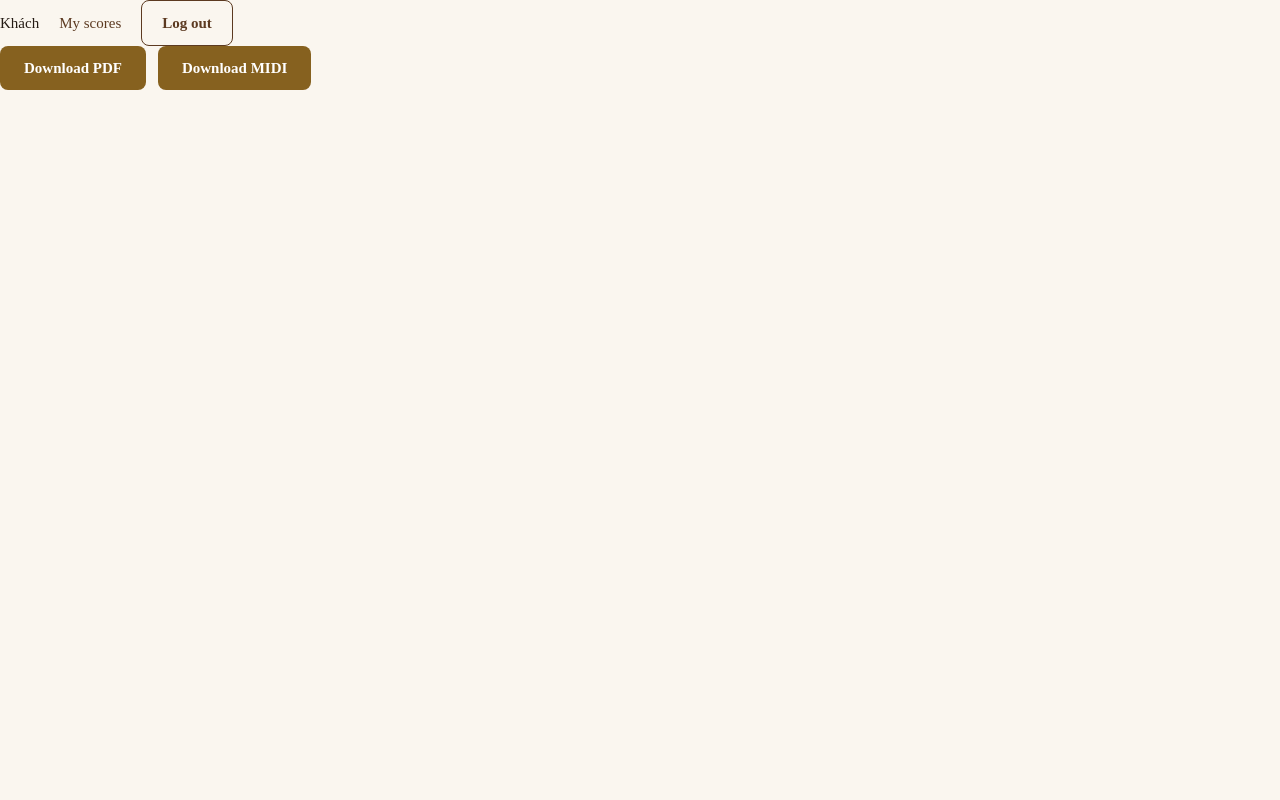
Test: Tài khoản khách (web) › tải trả 403 EMAIL_NOT_VERIFIED: mở modal xác minh email; lỗi khác hiện thông báo, không điều hướng
The width and height of the screenshot is (1280, 800).
Expected: the text "Khách" is shown, [0,11,39,35]
Click the button "Download PDF".
click(73, 68)  # box [0,46,146,90]
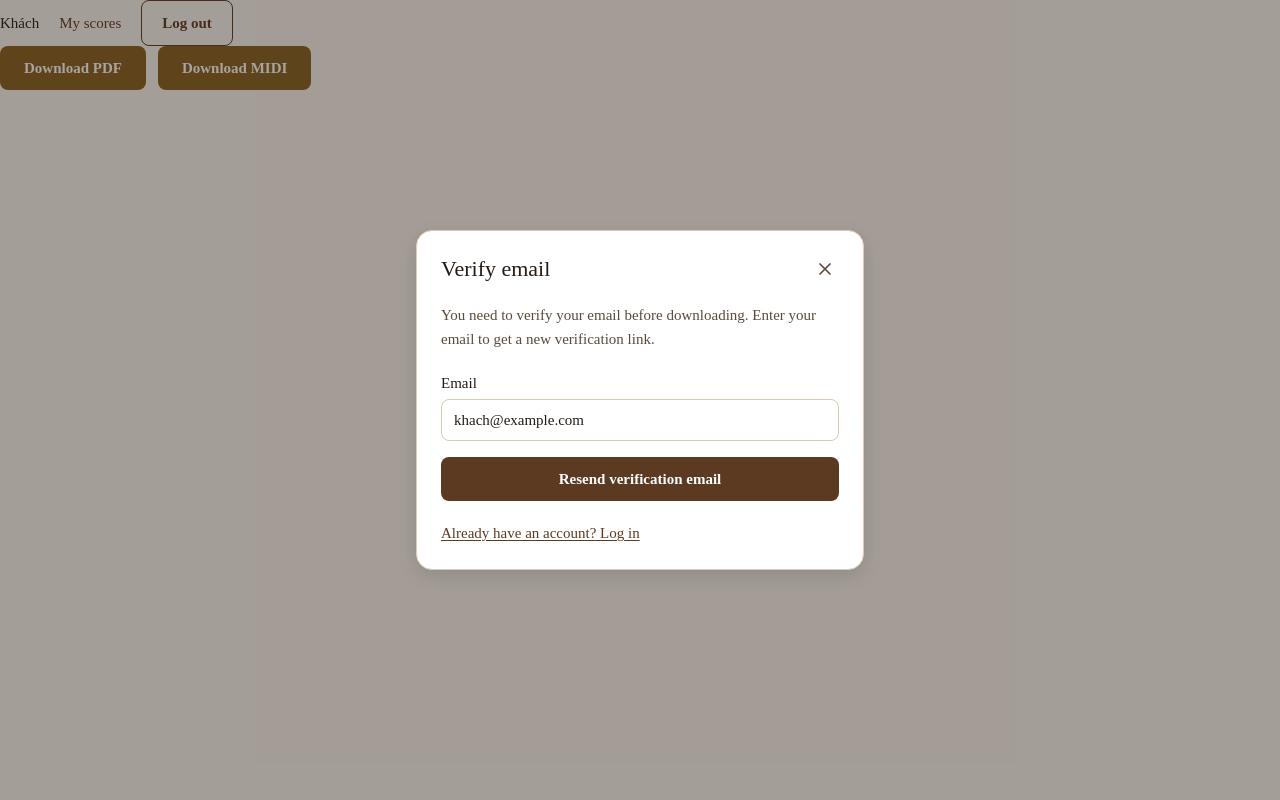
Now the heading "Verify email" is shown, box [441,255,550,283]
Click the button named "Close".
click(825, 269)  # box [803,247,847,291]
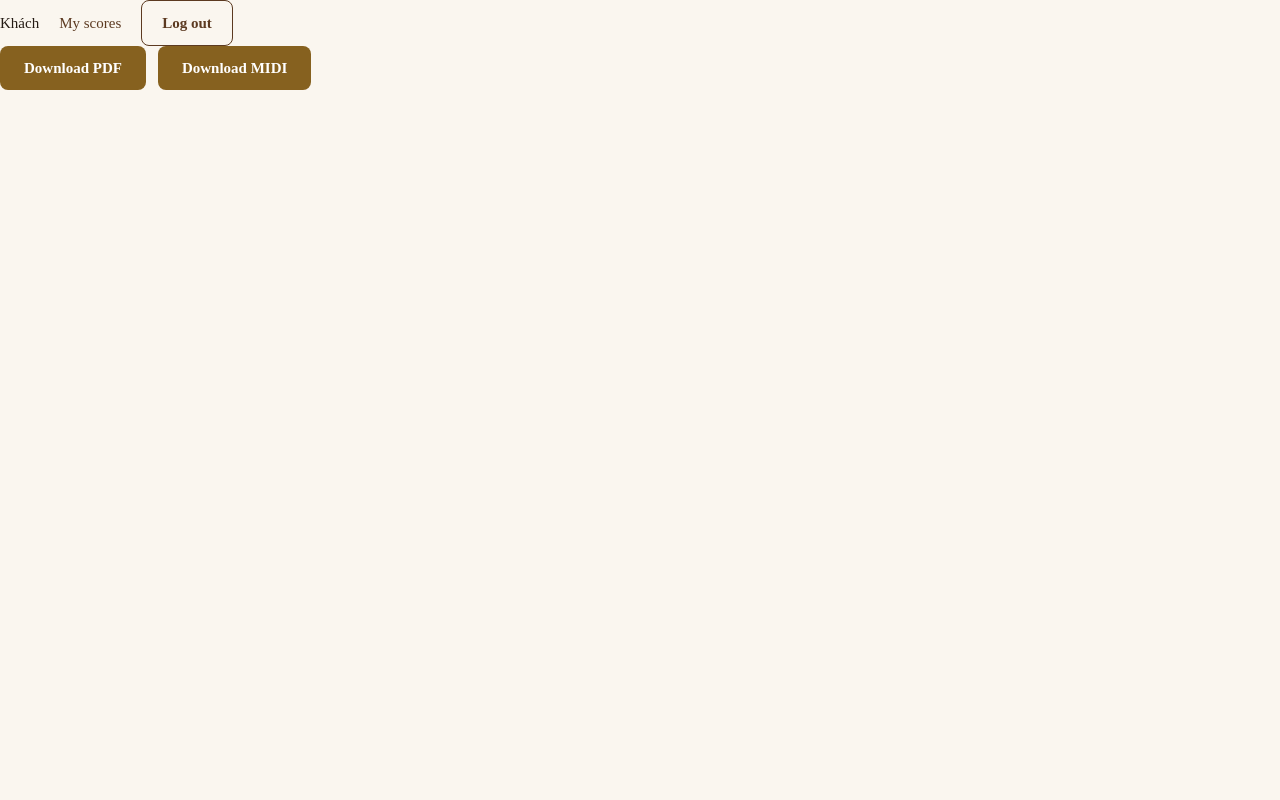
Click the button "Download PDF".
click(73, 68)  # box [0,46,146,90]
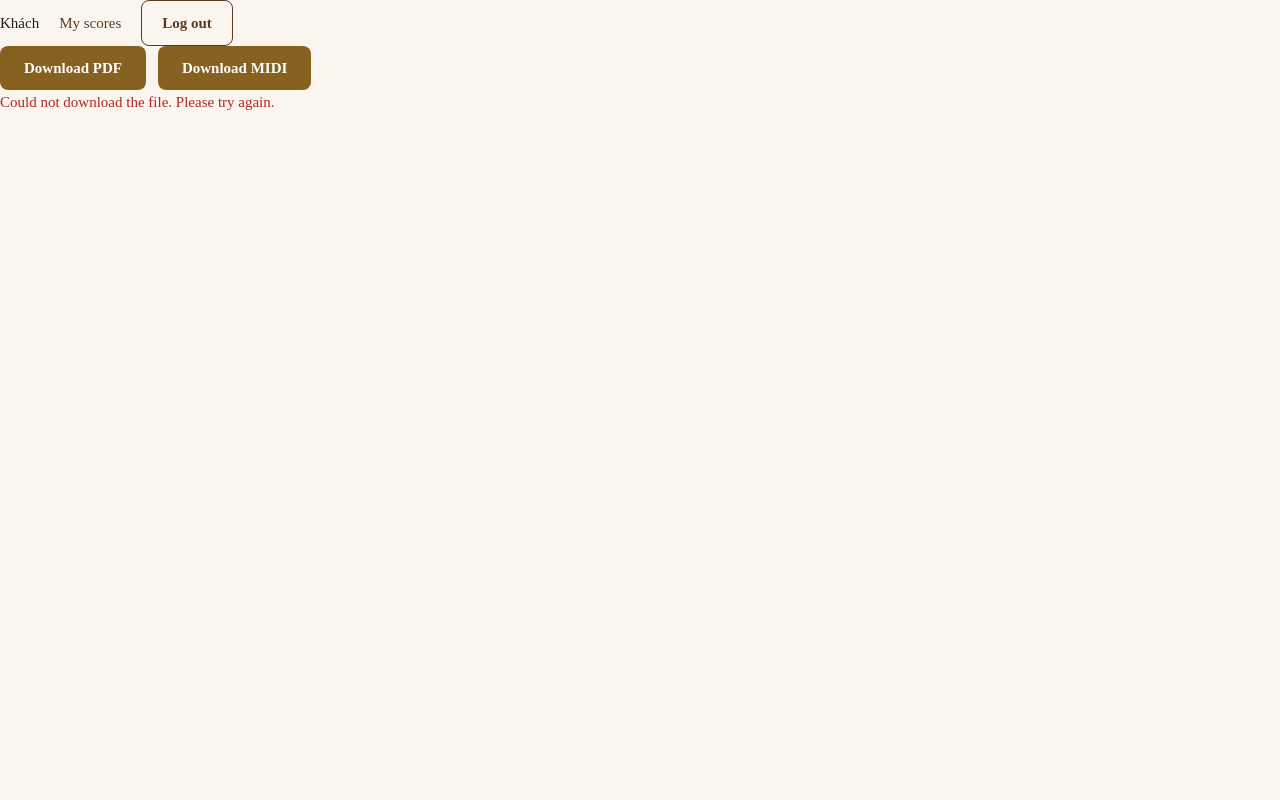
Now the message shows "Could not download the file", box [0,94,274,110]
